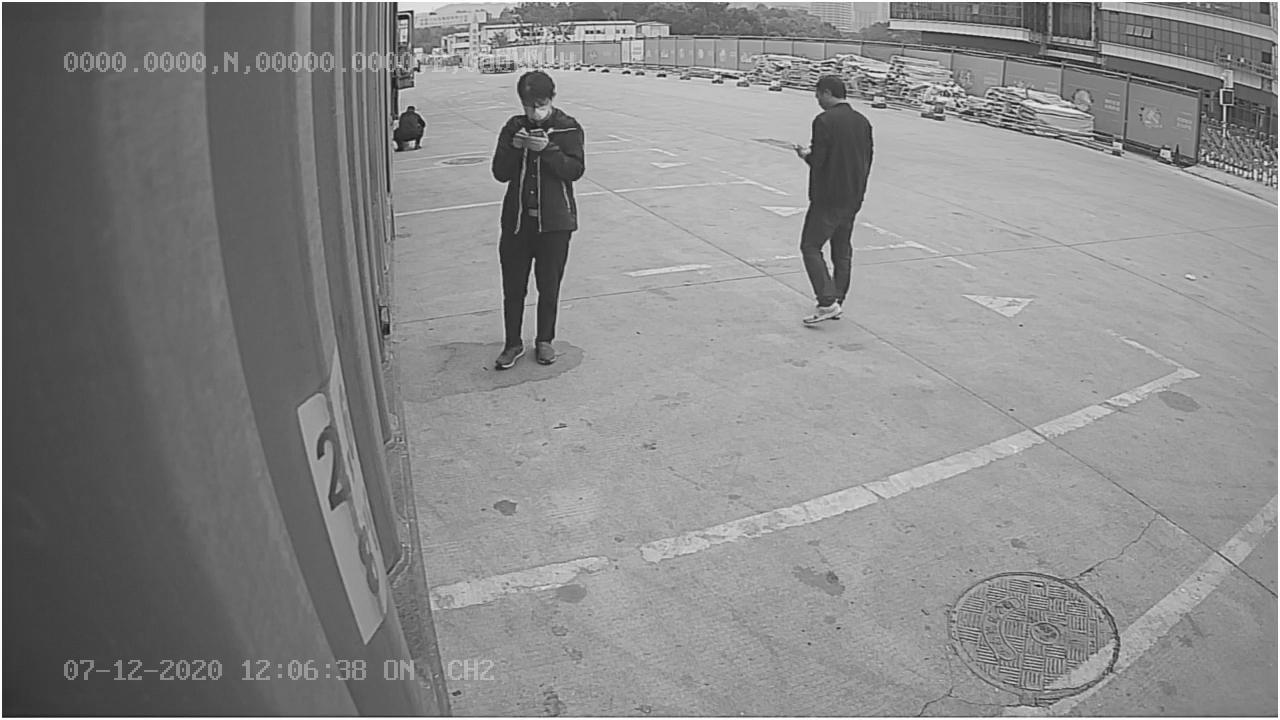person: (486, 70, 585, 368), (786, 69, 879, 329)
